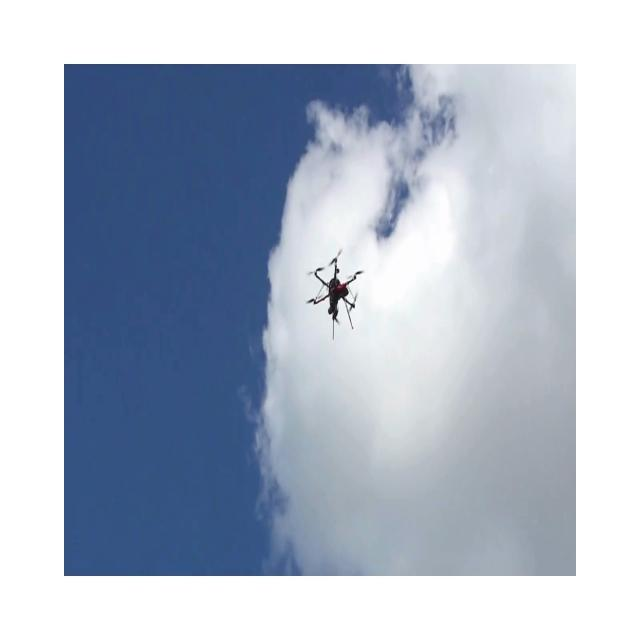drone: (305, 248, 364, 340)
